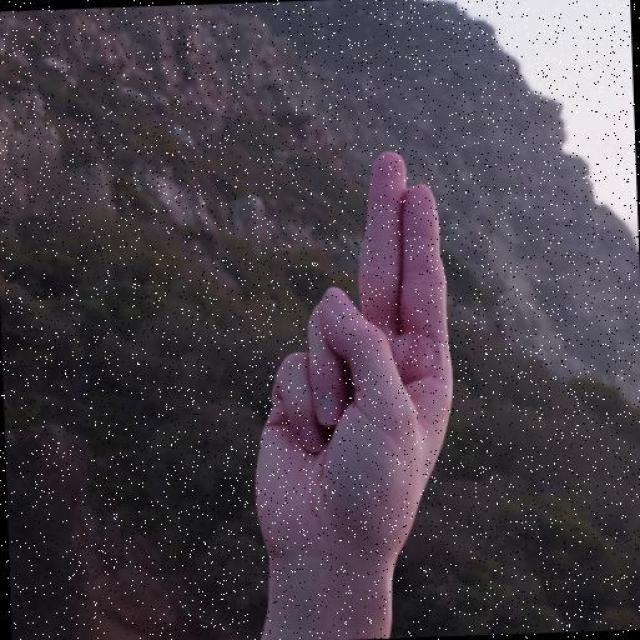U: (235, 143, 462, 562)
